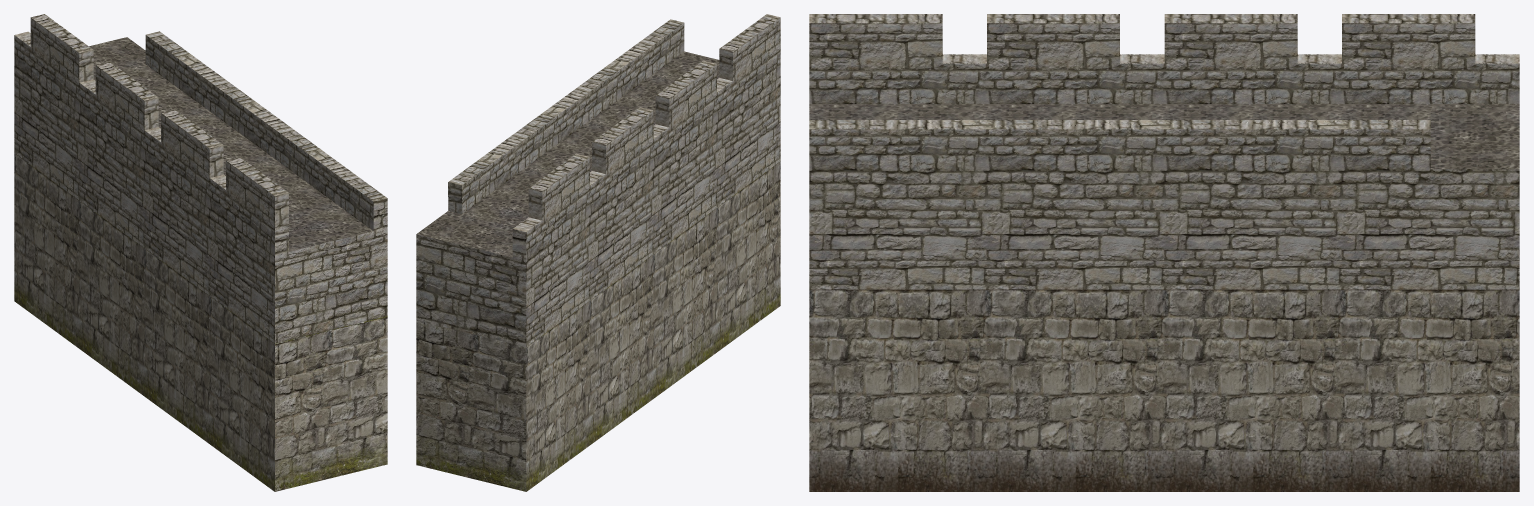
The model's file is castle_wall.obj.
3 views of the same model, side by side, from view 1: azimuth 30°, elevation 25°; view 2: azimuth 150°, elevation 25°; view 3: azimuth 270°, elevation 25° (orthographic). The views are drawn at different scales.
Visible parts, largest first — view 1: castle_wall; view 2: castle_wall; view 3: castle_wall.
Part boxes in pixels (x1,y1,x2,y2): castle_wall: (14,14,387,491); castle_wall: (416,14,780,491); castle_wall: (809,14,1519,491).
Bounding box in the file's own units: 0.625 × 1.57 × 2.5.
Materials: 4 (4 with a texture image).
